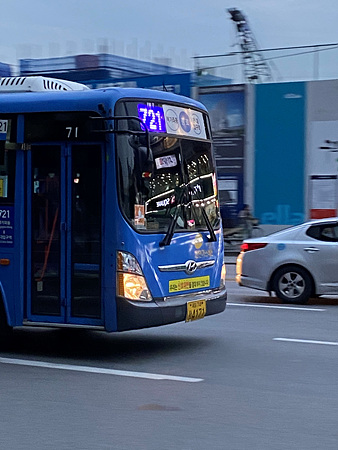entrance: (22, 115, 112, 334)
